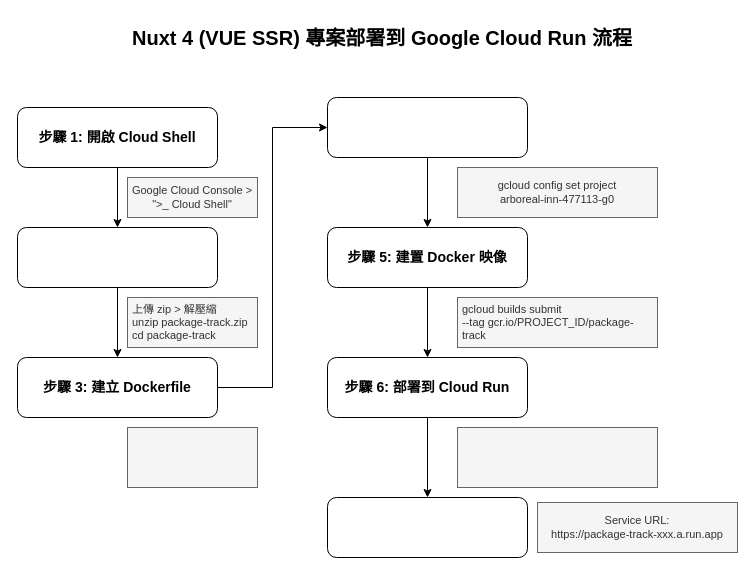
The diagram is 755 pixels wide and 575 high, and some of its shapes have lost their labels. The centre of each missing label's shape, as x and y in pixels:
"gcloud run deploy package-track --region asia-east1 --allow-unauthenticated" goes at [557,457].
"Node 22-slim npm install npm run build PORT=8080" goes at [192,457].
"步驟 2: 上傳專案" goes at [117,257].
"步驟 4: 設定 GCP 專案" goes at [427,127].
"部署完成" goes at [427,527].
